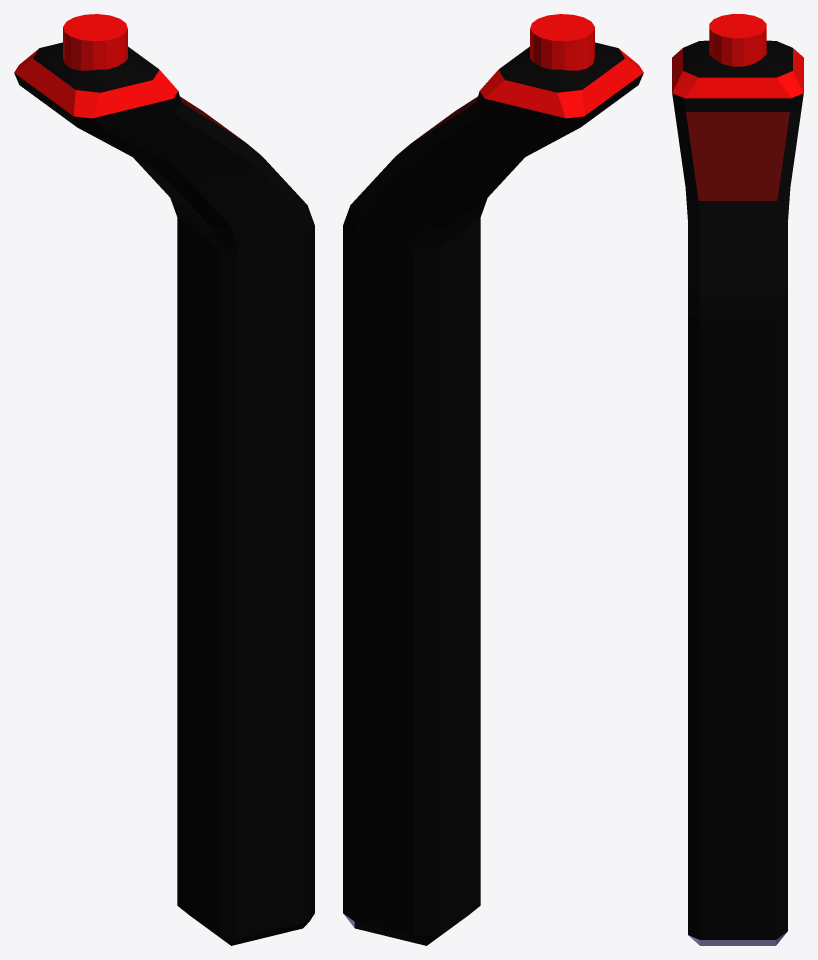
The model's file is lever.fbx.
The picture shows the model from 3 angles, left to right: view 1: azimuth 30°, elevation 25°; view 2: azimuth 150°, elevation 25°; view 3: azimuth 270°, elevation 25°; orthographic projection. The views are drawn at different scales.
Parts seen in each view (by area): view 1: Cube, button; view 2: Cube, button; view 3: Cube, button.
Boxes of the visible parts, x1,y1,x2,y2 form: Cube: [14, 42, 314, 945]; button: [63, 14, 127, 70]; Cube: [343, 42, 643, 945]; button: [530, 14, 594, 70]; Cube: [672, 40, 803, 945]; button: [709, 14, 766, 66].
Bounding box in the file's own units: 94.03 × 335 × 47.67.
